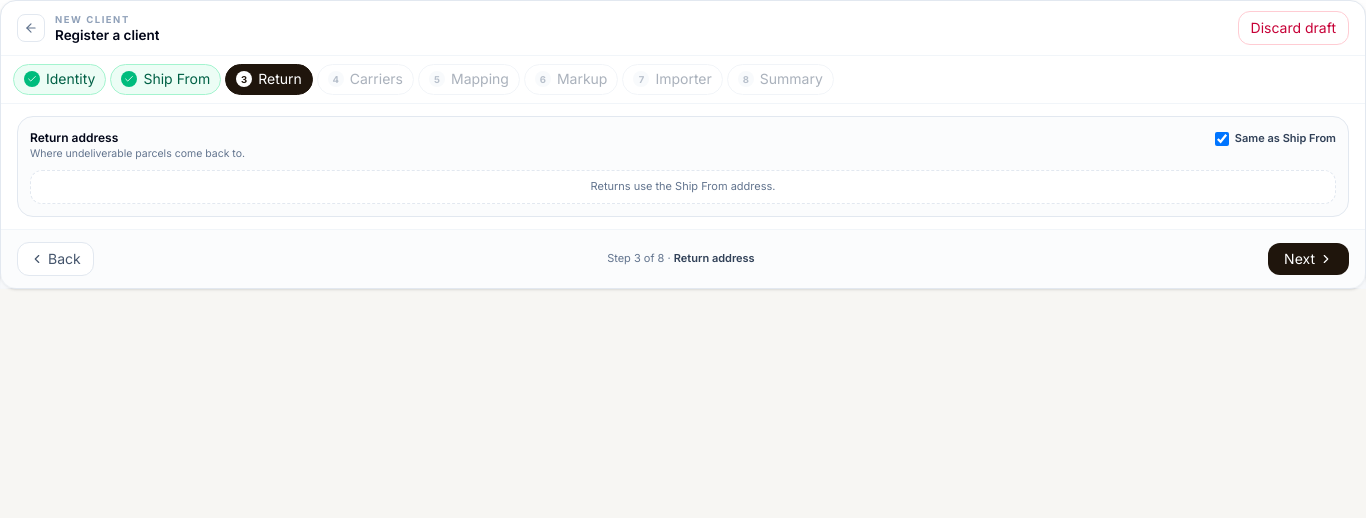
ClientEditorPage · Return step · positive › un-checking the toggle reveals the editable address block
Expected: the heading "Return address" is shown, [30,130,118,145]
Click the checkbox labelled "Same as Ship From".
click(1222, 139)  # box [1215,132,1229,146]
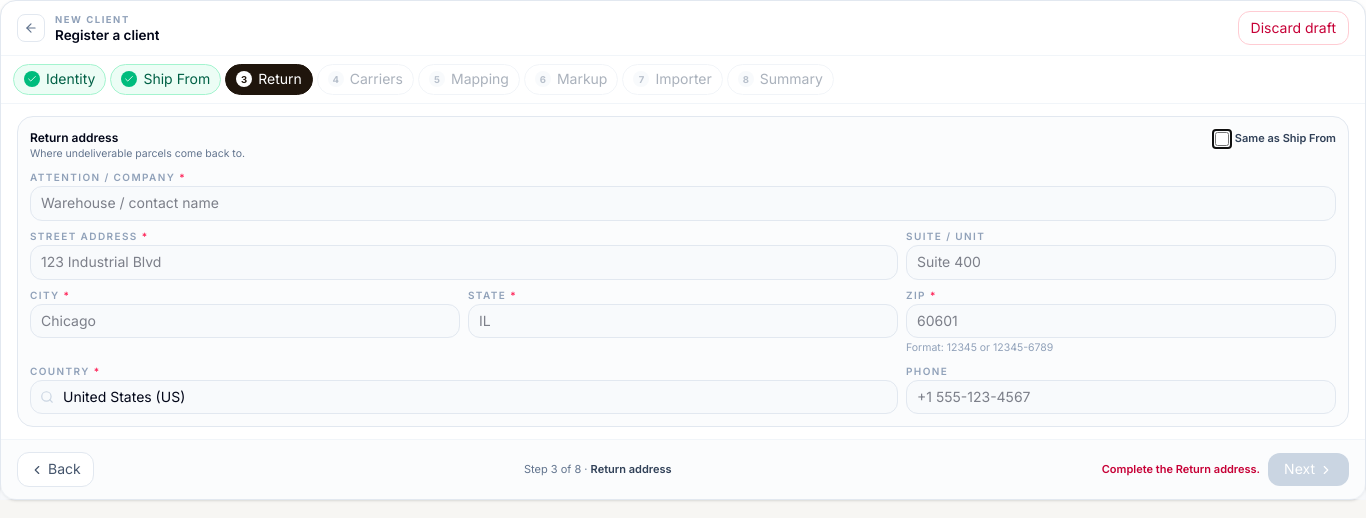
Now the checkbox labelled "Same as Ship From" is not checked, box [1215,132,1229,146]
Now the field with placeholder "Warehouse / contact name" is shown, box [30,186,1336,221]
Now the field with placeholder "123 Industrial Blvd" is shown, box [30,245,898,280]
